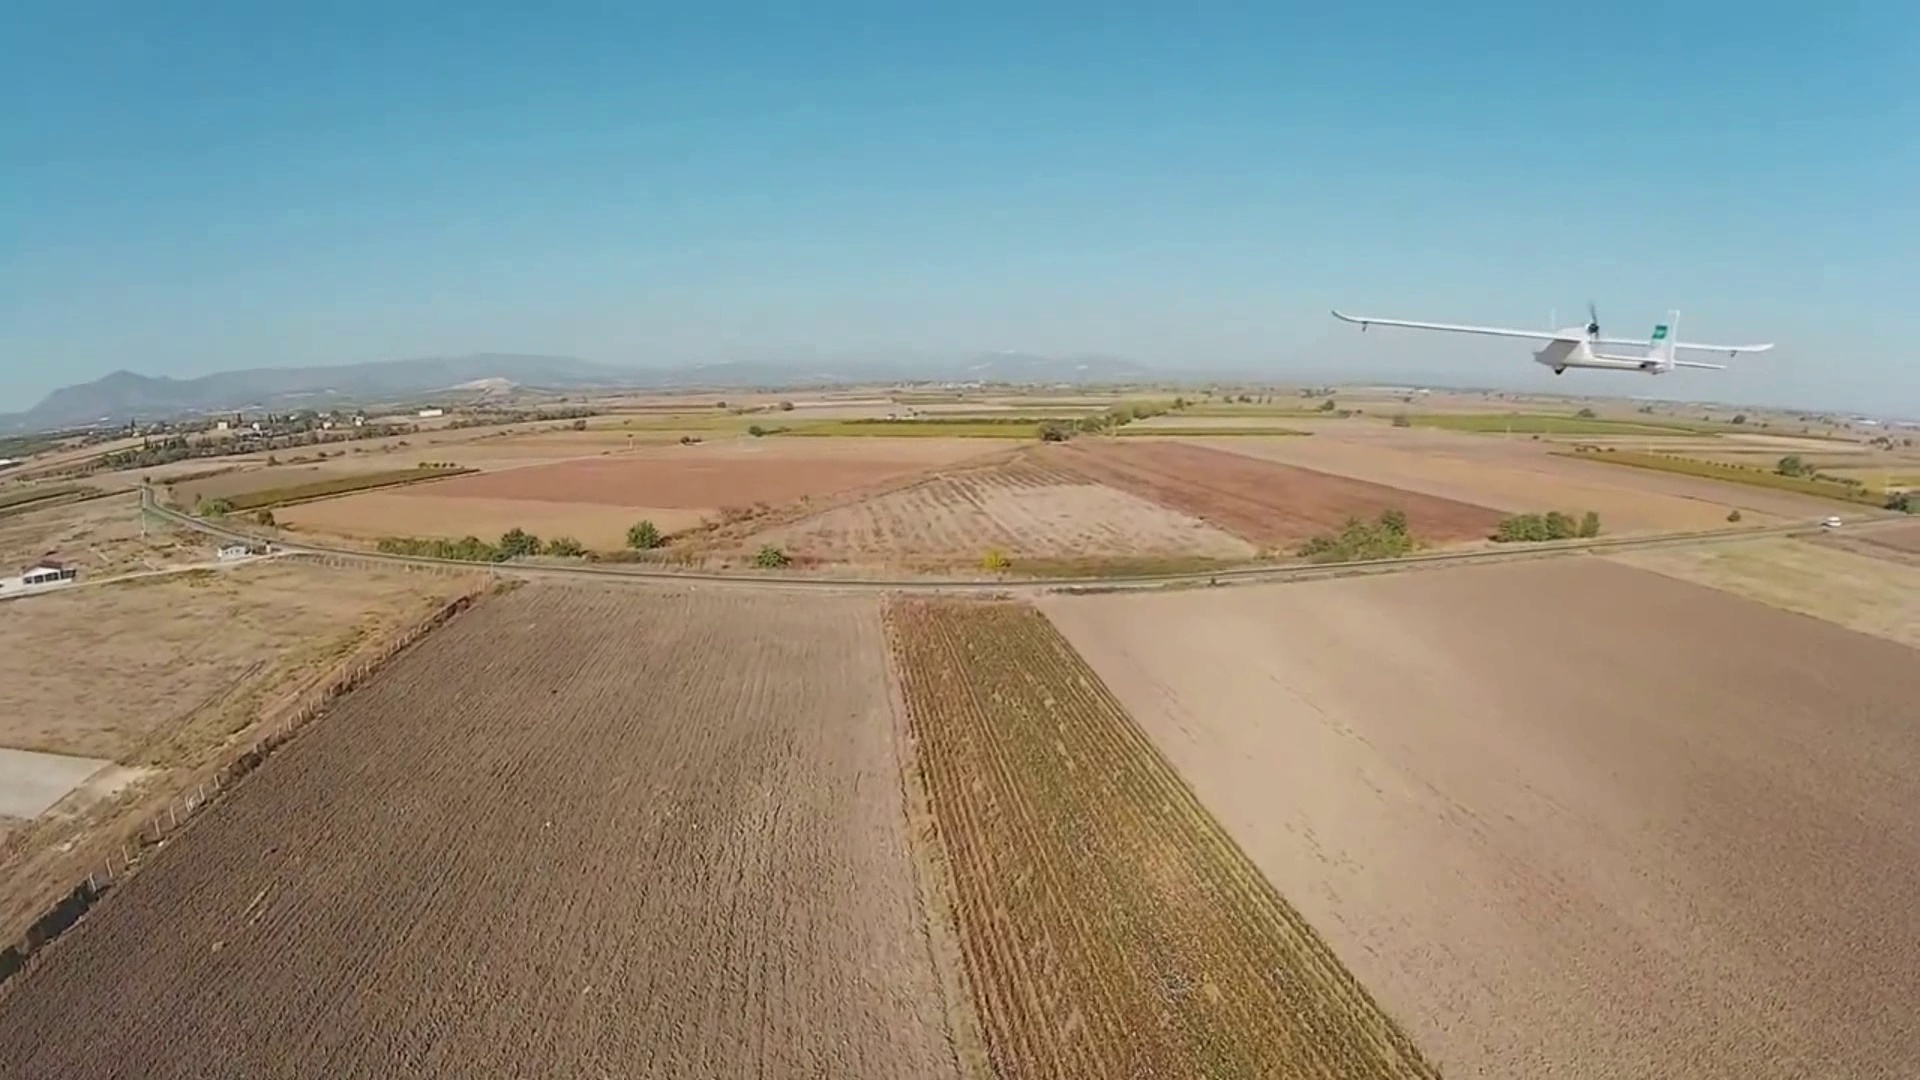airplane: (1331, 305, 1776, 375)
